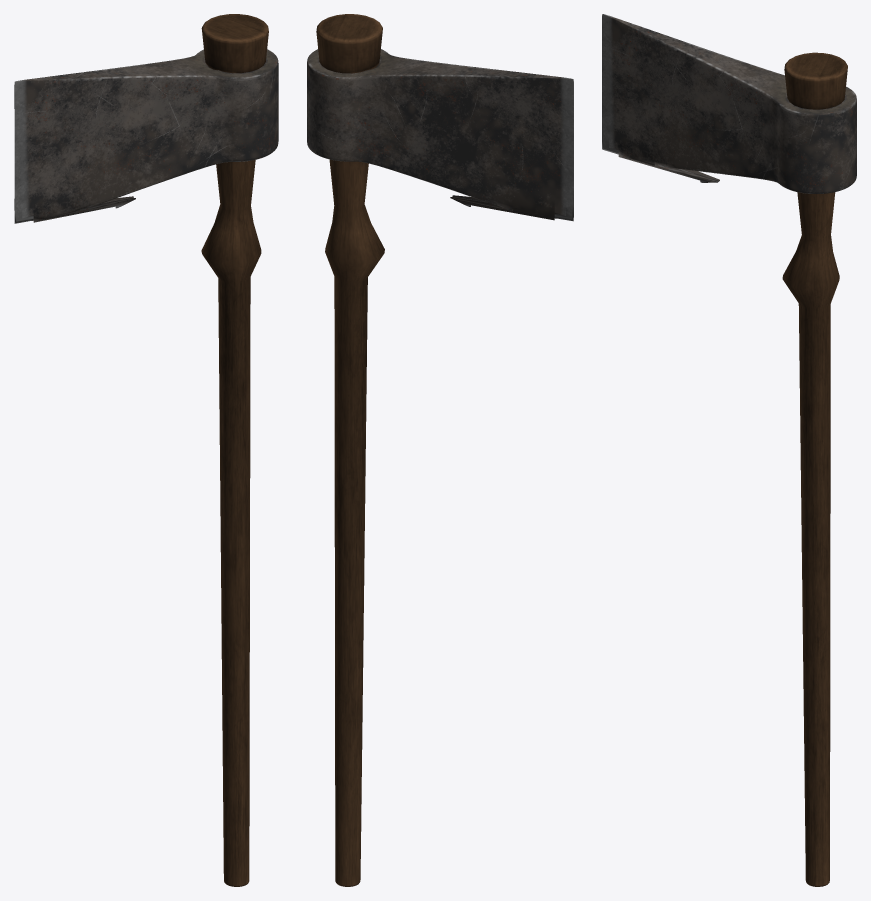
The model's file is w_hacha_vieja.glb.
The picture shows the model from 3 angles, left to right: view 1: azimuth 30°, elevation 25°; view 2: azimuth 150°, elevation 25°; view 3: azimuth 330°, elevation 25°; orthographic projection. The views are drawn at different scales.
Visible parts, largest first — view 1: w_hacha_vieja; view 2: w_hacha_vieja; view 3: w_hacha_vieja.
Part boxes in pixels (x1=…): w_hacha_vieja: x1=14, y1=14, x2=278, y2=886; w_hacha_vieja: x1=307, y1=14, x2=573, y2=886; w_hacha_vieja: x1=602, y1=14, x2=856, y2=886.
Bounding box in the file's own units: 0.3016 × 0.95 × 0.0858.
2 materials, 2 textured.
